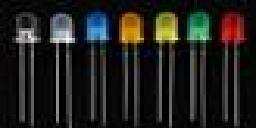LED: (215, 10, 249, 128), (83, 9, 113, 126), (150, 11, 180, 128), (184, 12, 214, 128), (45, 14, 76, 126), (117, 12, 145, 128), (10, 11, 38, 122)
